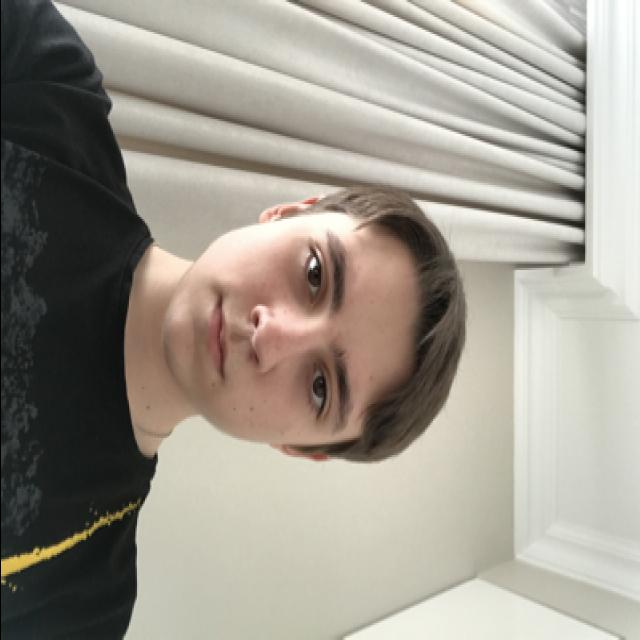no_mask: (163, 212, 363, 442)
